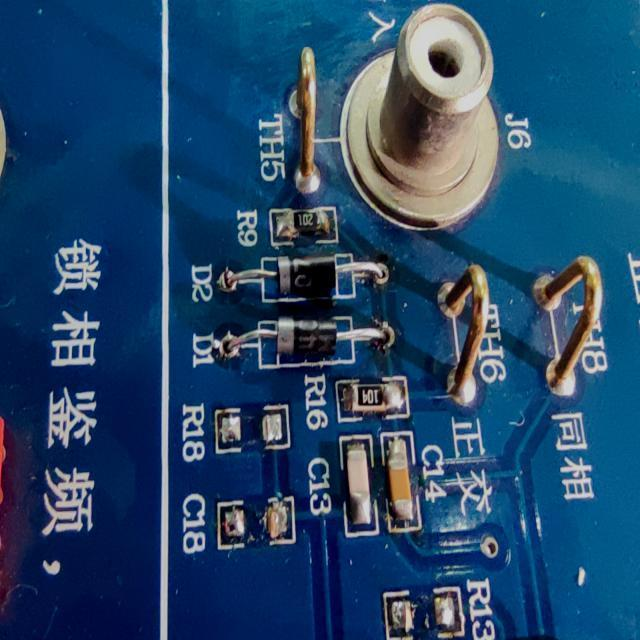Missing component: (178, 488, 302, 560), (179, 394, 296, 468), (373, 573, 496, 640)
